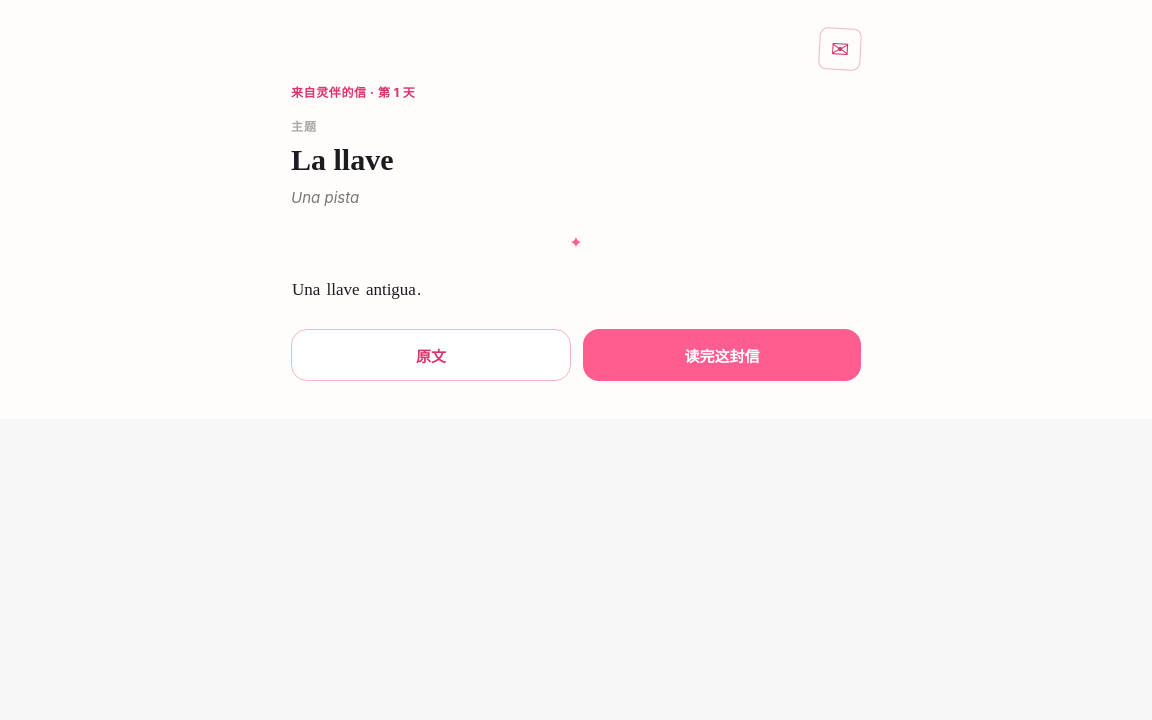
Test: Soul Mate MVP › opens the news-style translation popup when a story word is tapped
The width and height of the screenshot is (1152, 720).
Click the text with class "word" showing "llave" at (343, 289), box x1=326 y1=280 x2=361 y2=299
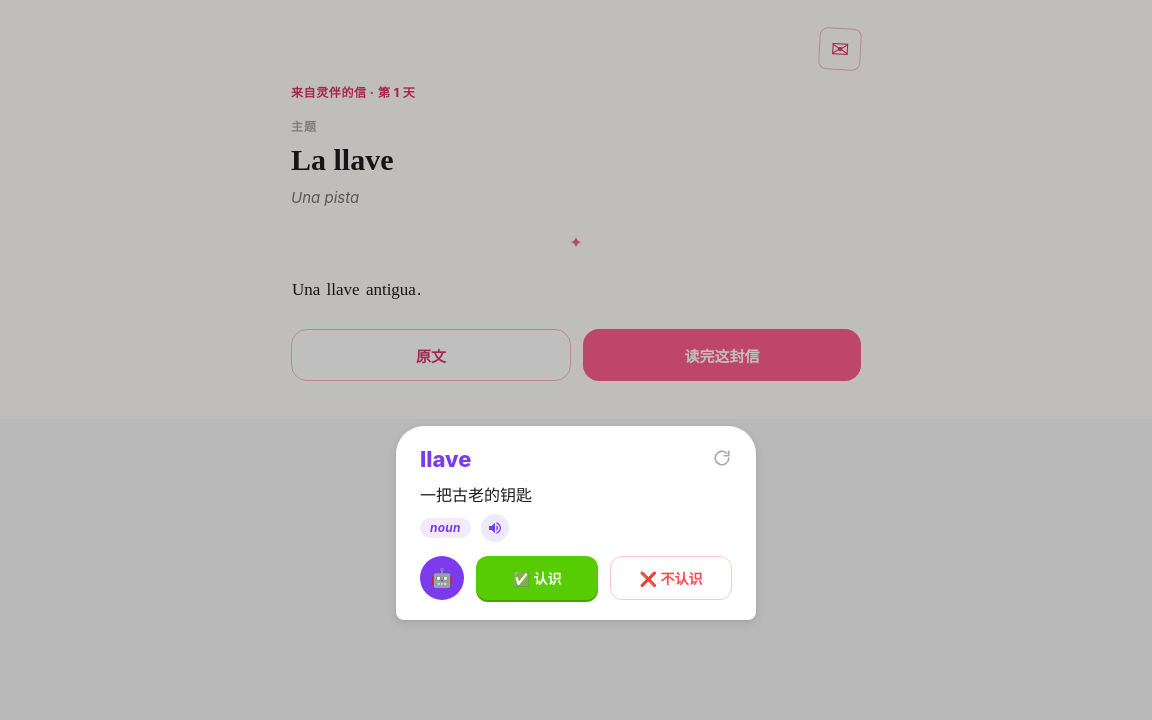
Expected: the element with class "word-popup" shows "一把古老的钥匙", x1=420 y1=485 x2=532 y2=505
